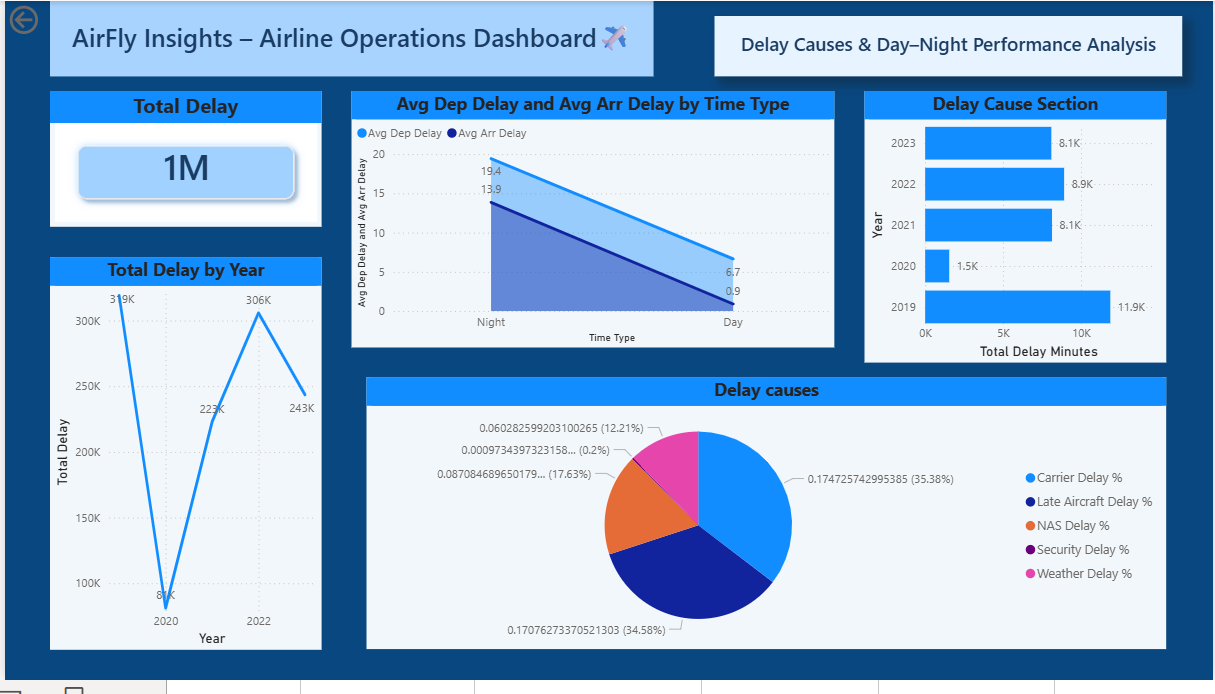

This screenshot's page, from the dashboard's own definition file:
{"tool":"powerbi","page":{"name":"Delay Causes & Day–Night Performance Analysis","canvas":[1280,720],"ordinal":7},"visuals":[{"type":"textbox","box":[48,0,640,80],"z":0},{"type":"actionButton","box":[752,16,496,64],"z":1000},{"type":"actionButton","box":[0,0,100,40],"z":2000},{"type":"clusteredBarChart","title":"Delay Cause Section","fields":{"Category":["data.Date.Variation.Date Hierarchy.Year","data.Date.Variation.Date Hierarchy.Quarter","data.Date.Variation.Date Hierarchy.Month","data.Date.Variation.Date Hierarchy.Day"],"Y":["data.Total Delay Minutes"]},"box":[912,96,320,288],"z":3000},{"type":"pieChart","title":"Delay causes","fields":{"Y":["data.Carrier Delay %","data.Late Aircraft Delay %","data.NAS Delay %","data.Security Delay %","data.Weather Delay %"]},"box":[384,400,848,288],"z":4000},{"type":"cardVisual","title":"Total Delay","fields":{"Data":["data.Total Delay"]},"box":[48,96,288,144],"z":5000},{"type":"lineChart","fields":{"Category":["data.Date.Variation.Date Hierarchy.Year","data.Date.Variation.Date Hierarchy.Quarter","data.Date.Variation.Date Hierarchy.Month","data.Date.Variation.Date Hierarchy.Day"],"Y":["data.Total Delay"]},"box":[48,272,288,416],"z":6000},{"type":"areaChart","fields":{"Category":["data.Time Type"],"Y":["data.Avg Dep Delay","data.Avg Arr Delay"]},"box":[368,96,512,272],"z":7000}]}

Visuals, with their boxes in screenshot pixels (x1, y1, x2, y2), scaled from the page's 1280x720 canvas onto the 1215x694 screenshot:
textbox: x1=46, y1=0, x2=653, y2=77
actionButton: x1=714, y1=15, x2=1185, y2=77
actionButton: x1=0, y1=0, x2=95, y2=39
"Delay Cause Section" clusteredBarChart: x1=866, y1=93, x2=1169, y2=370
"Delay causes" pieChart: x1=364, y1=386, x2=1169, y2=663
"Total Delay" cardVisual: x1=46, y1=93, x2=319, y2=231
lineChart - data.Date.Variation.Date Hierarchy.Year x data.Date.Variation.Date Hierarchy.Quarter: x1=46, y1=262, x2=319, y2=663
areaChart - data.Time Type x data.Avg Dep Delay: x1=349, y1=93, x2=835, y2=355
